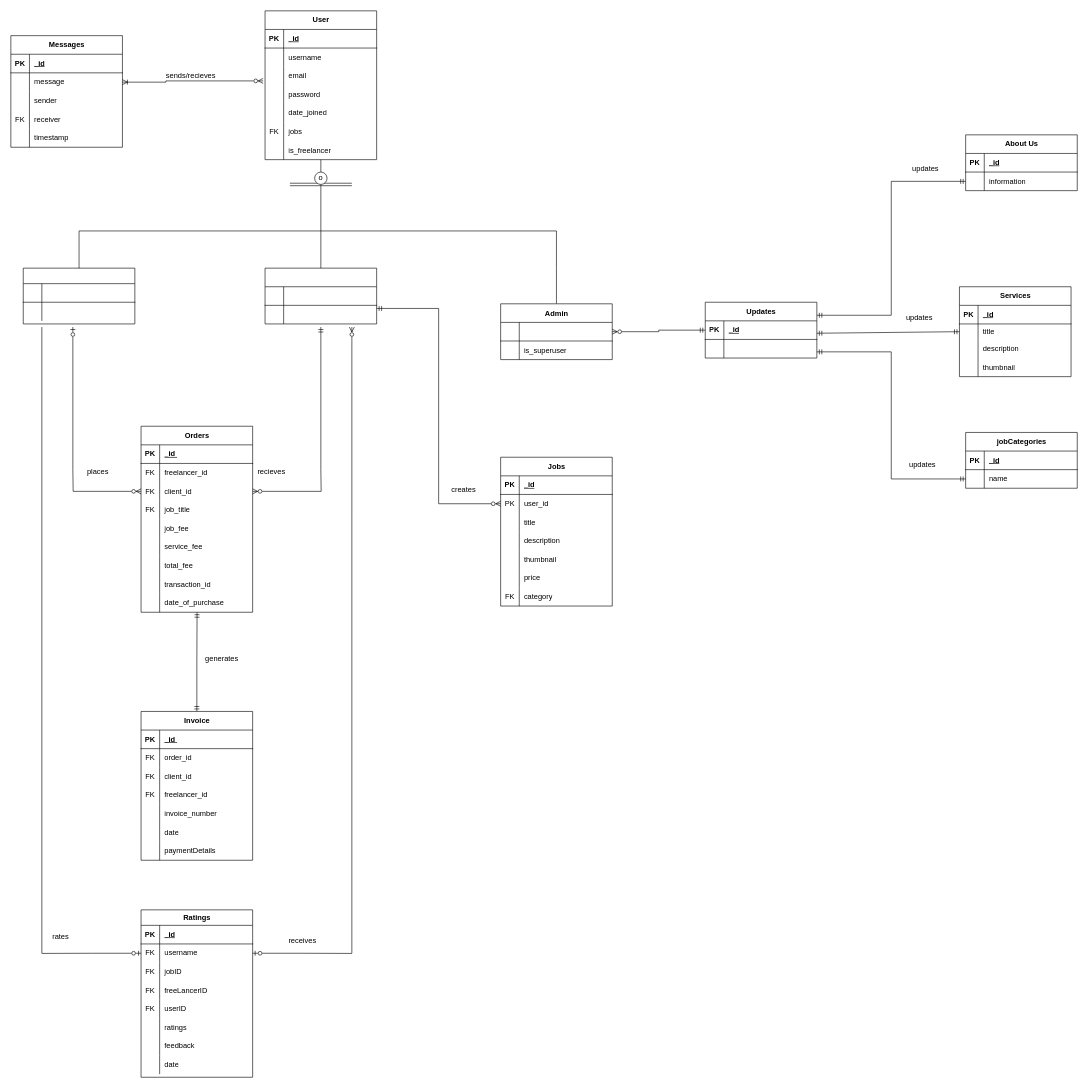
This 1088x1088 diagram has some shape labels left out. Here are the shapes that lost their labels. From the top down, the centre of each, then its label:
At (x=79, y=296): "Client".
At (x=320, y=296): "FreeLancer".
